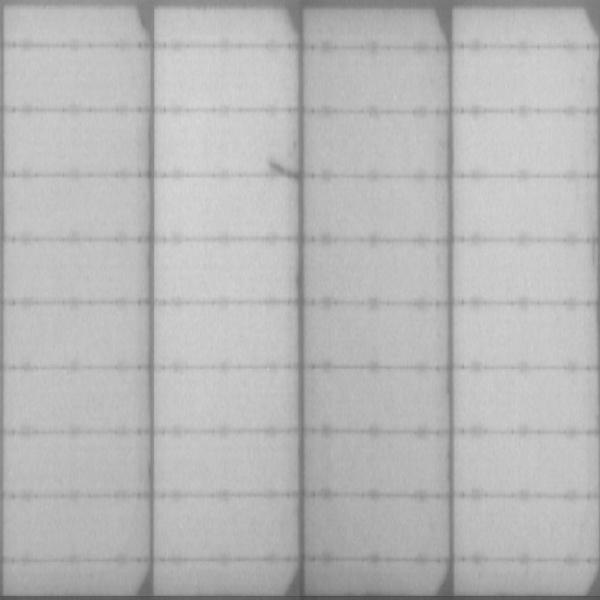scratch: (269, 160, 294, 179)
